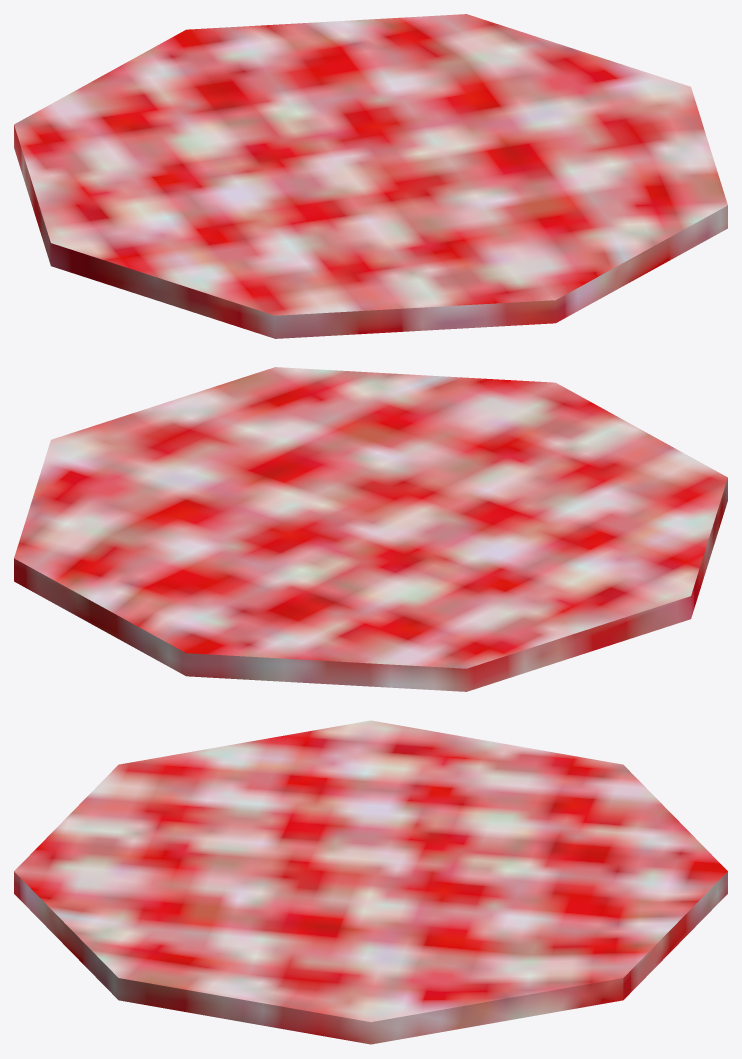
Rendered from tablecloth.FBX.
The picture shows the model from 3 angles, top to bottom: view 1: azimuth 30°, elevation 25°; view 2: azimuth 150°, elevation 25°; view 3: azimuth 270°, elevation 25°; orthographic projection. The views are drawn at different scales.
Visible parts, largest first — view 1: Cylinder001; view 2: Cylinder001; view 3: Cylinder001.
Boxes of the visible parts, box(x1,y1,x2,y2) form: Cylinder001: box(14, 14, 727, 338); Cylinder001: box(14, 367, 727, 691); Cylinder001: box(14, 720, 727, 1044).
Bounding box in the file's own units: 80.36 × 2.78 × 80.36.
1 material, 1 textured.
